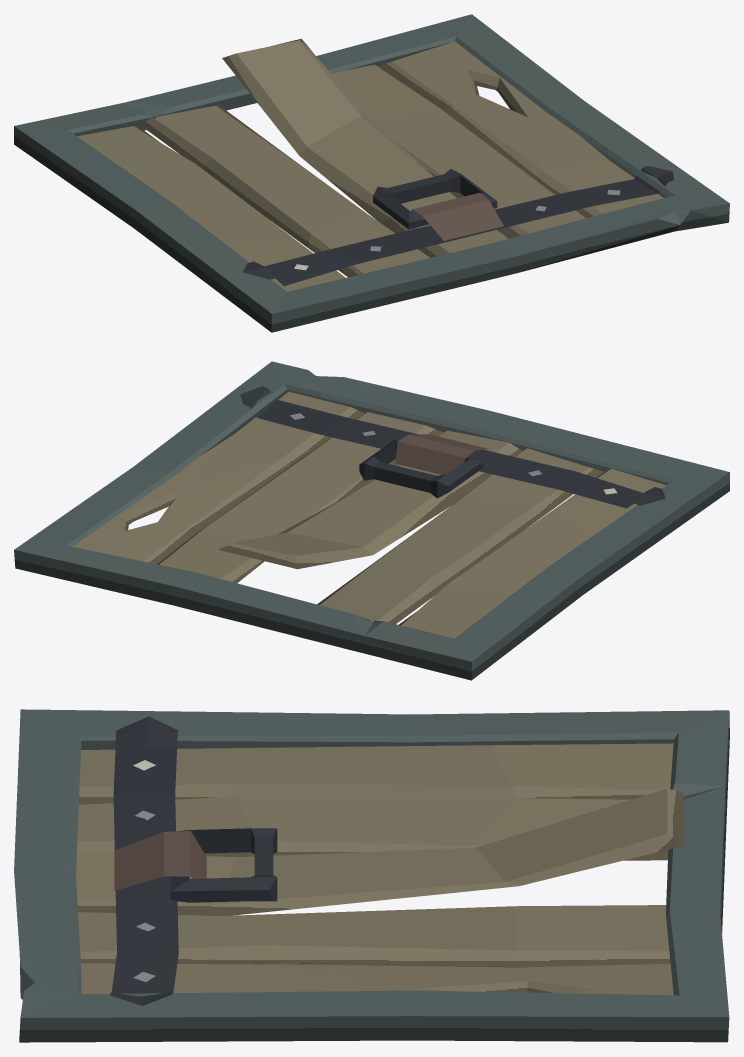
Rendered from WoodenCover.fbx.
3 renders of one model, top to bottom at view 1: azimuth 30°, elevation 25°; view 2: azimuth 150°, elevation 25°; view 3: azimuth 270°, elevation 25°, orthographic. The views are drawn at different scales.
Visible parts, largest first — view 1: WoodenCover; view 2: WoodenCover; view 3: WoodenCover.
Part boxes in pixels (x1,y1,x2,y2): WoodenCover: (14, 14, 729, 332); WoodenCover: (14, 361, 729, 680); WoodenCover: (14, 709, 729, 1042).
Bounding box in the file's own units: 45.29 × 5.67 × 44.61.
1 material, 1 textured.
